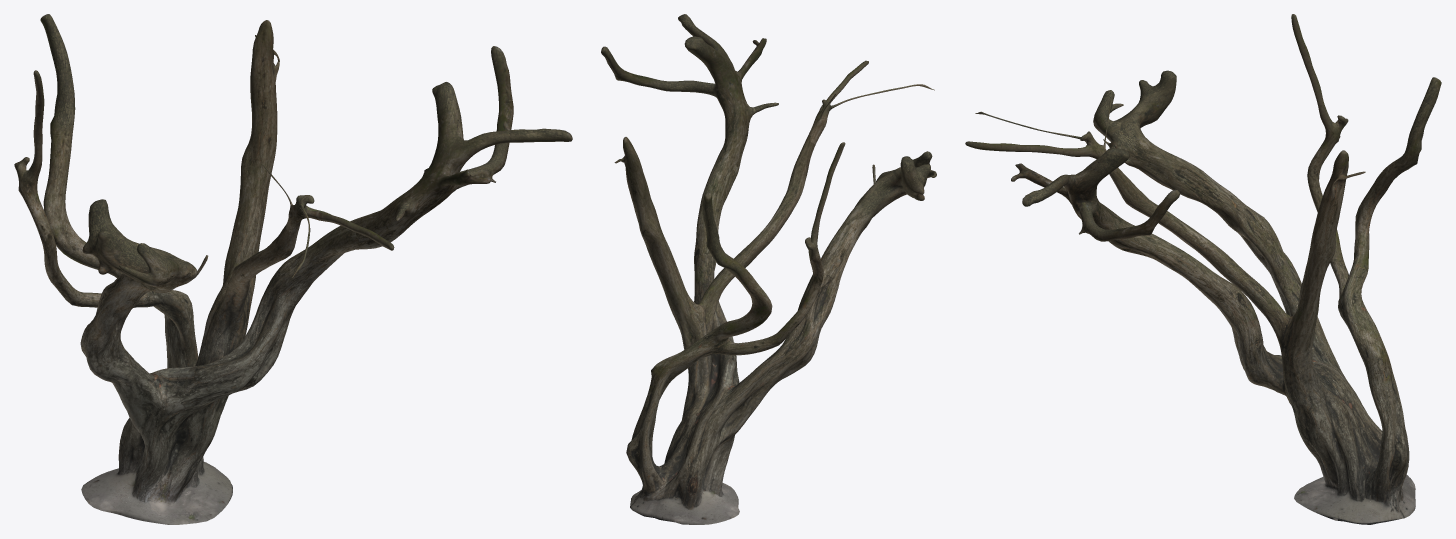
Rendered from island_tree_02_2k.fbx.
3 views of the same model, side by side, from view 1: azimuth 30°, elevation 25°; view 2: azimuth 150°, elevation 25°; view 3: azimuth 270°, elevation 25° (orthographic). The views are drawn at different scales.
Visible parts, largest first — view 1: island_tree_02; view 2: island_tree_02; view 3: island_tree_02.
Boxes of the visible parts, left/top/right/bottom form: island_tree_02: left=14, top=14, right=572, bottom=524; island_tree_02: left=601, top=14, right=936, bottom=524; island_tree_02: left=965, top=14, right=1441, bottom=524.
Bounding box in the file's own units: 236 × 262 × 272.
1 material, 1 textured.
